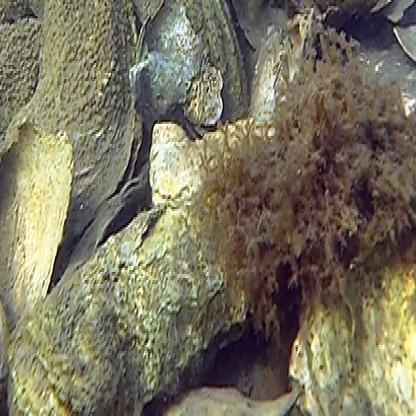Oyster- Indeterminate: (32, 0, 145, 245), (197, 0, 251, 121), (184, 64, 225, 135)
Oyster-Closed: (7, 193, 250, 416), (297, 261, 416, 416), (0, 116, 72, 334), (152, 116, 275, 205), (0, 19, 43, 161)
